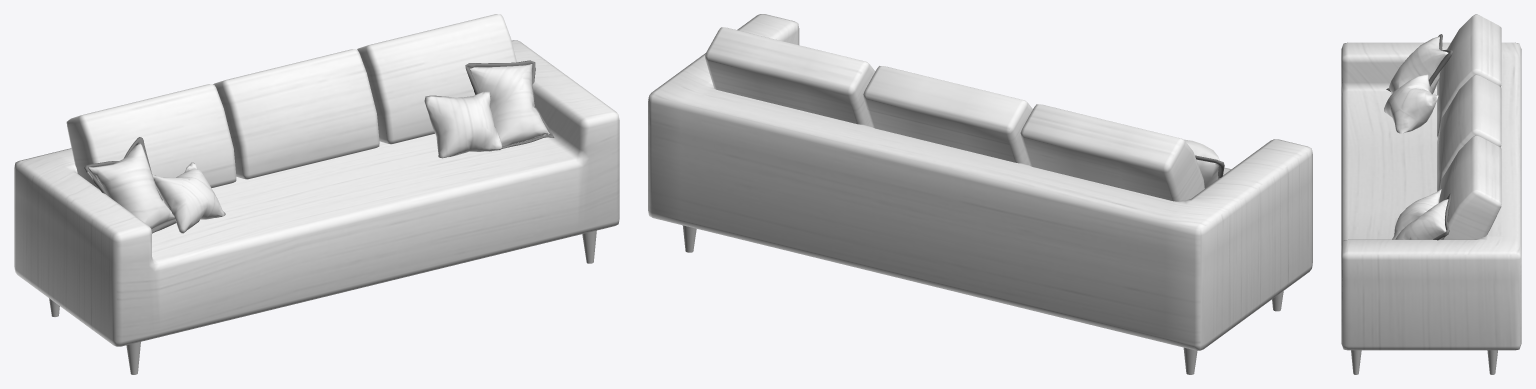
The model's file is sofa.obj.
3 views of the same model, side by side, from view 1: azimuth 30°, elevation 25°; view 2: azimuth 150°, elevation 25°; view 3: azimuth 270°, elevation 25° (orthographic). The views are drawn at different scales.
Parts seen in each view (by area): view 1: Rectangle001; view 2: Rectangle001; view 3: Rectangle001, pCylinder3, pCylinder4.
Boxes of the visible parts, bbox=[...] form: Rectangle001: bbox=[14, 14, 619, 346]; Rectangle001: bbox=[648, 14, 1312, 350]; Rectangle001: bbox=[1341, 14, 1521, 350]; pCylinder3: bbox=[1487, 350, 1497, 374]; pCylinder4: bbox=[1351, 350, 1361, 374].
Size of the model in its own units: 4.77 by 1.82 by 1.7.
